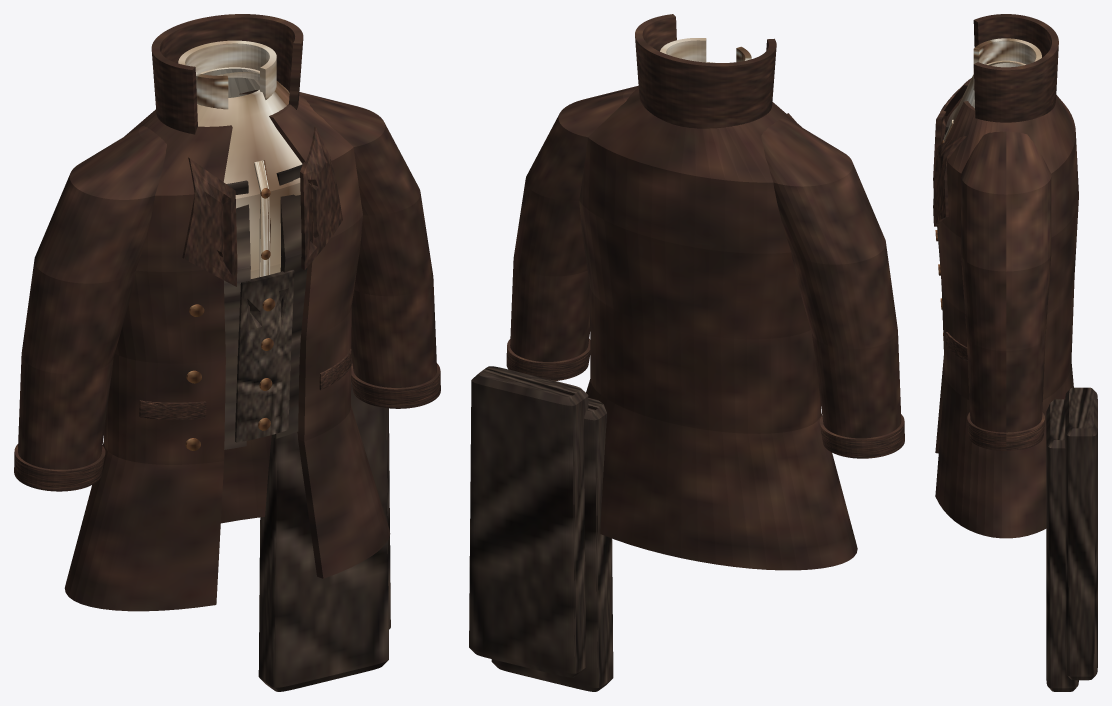
3 views of the same model, side by side, from view 1: azimuth 30°, elevation 25°; view 2: azimuth 150°, elevation 25°; view 3: azimuth 270°, elevation 25° (orthographic). The views are drawn at different scales.
Parts seen in each view (by area): view 1: outer_coat, left_coat_sleeve, folded_trousers_0, right_coat_sleeve, shirt_body, raised_coat_collar, waistcoat_front, waistcoat, left_lapel, shirt_collar, right_lapel, left_coat_cuff (+3 smaller); view 2: outer_coat, folded_trousers_1, left_coat_sleeve, right_coat_sleeve, raised_coat_collar, folded_trousers_0, left_coat_cuff, right_coat_cuff, shirt_collar; view 3: outer_coat, right_coat_sleeve, folded_trousers_1, raised_coat_collar, folded_trousers_0, shirt_collar, right_coat_cuff, right_lapel, left_lapel, shirt_body, right_pocket.
Boxes of the visible parts, box(x1,y1,x2,y2) form: outer_coat: box(64, 94, 390, 611); left_coat_sleeve: box(18, 126, 166, 469); folded_trousers_0: box(258, 382, 388, 691); right_coat_sleeve: box(299, 92, 436, 387); shirt_body: box(197, 67, 302, 278); raised_coat_collar: box(151, 14, 303, 134); waistcoat_front: box(235, 270, 294, 442); waistcoat: box(224, 164, 307, 449); left_lapel: box(182, 157, 237, 286); shirt_collar: box(178, 40, 276, 109); right_lapel: box(300, 126, 342, 270); left_coat_cuff: box(14, 444, 105, 491); outer_coat: box(579, 88, 857, 570); folded_trousers_1: box(469, 366, 588, 677); left_coat_sleeve: box(761, 117, 901, 438); right_coat_sleeve: box(510, 85, 638, 361); raised_coat_collar: box(635, 14, 776, 128); folded_trousers_0: box(491, 398, 613, 691); left_coat_cuff: box(819, 414, 904, 458); right_coat_cuff: box(506, 339, 590, 380); shirt_collar: box(660, 38, 751, 62); outer_coat: box(935, 78, 1078, 538); right_coat_sleeve: box(961, 131, 1051, 432); folded_trousers_1: box(1065, 387, 1097, 680); raised_coat_collar: box(973, 14, 1058, 122); folded_trousers_0: box(1046, 399, 1078, 691); shirt_collar: box(973, 38, 1041, 90); right_coat_cuff: box(967, 412, 1044, 450); right_lapel: box(933, 136, 966, 226); left_lapel: box(933, 84, 963, 191); shirt_body: box(944, 60, 1025, 137); right_pocket: box(945, 332, 967, 361).
Size of the model in its own units: 61.08 by 97 by 25.2.
Materials: 5 (5 with a texture image).
